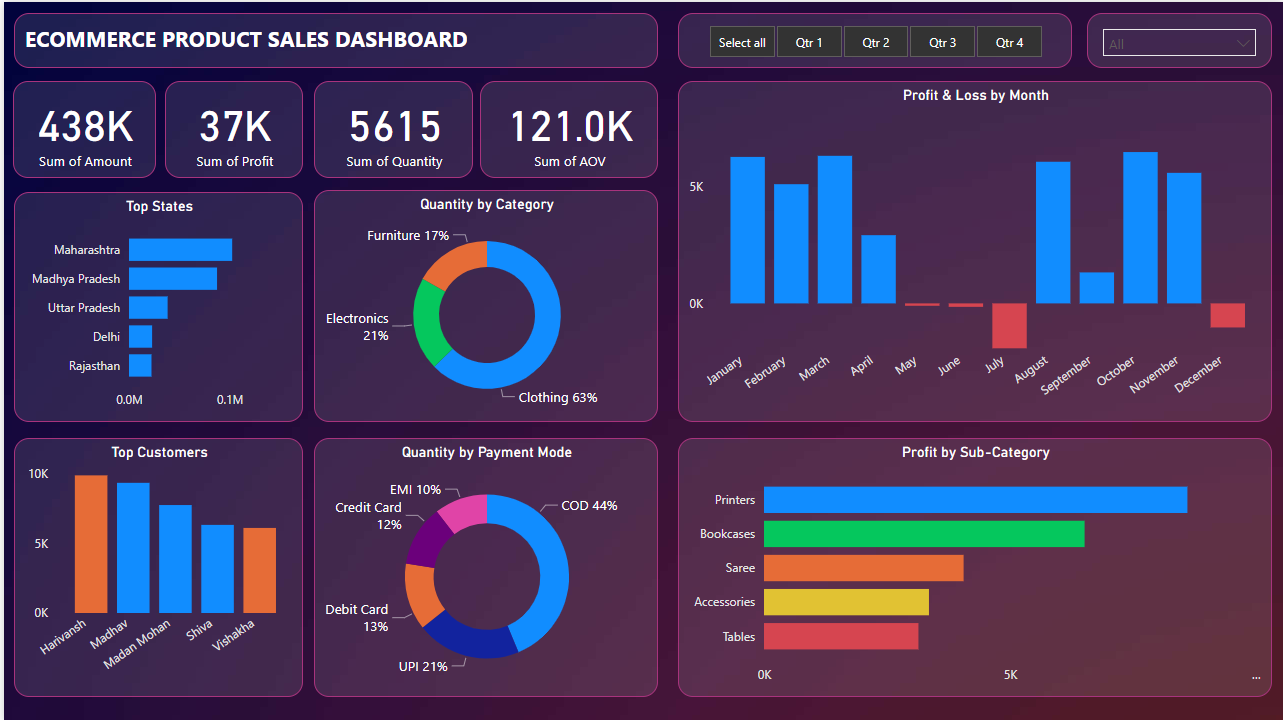

Layout of this report page (visuals, bound fields, positions):
{"tool":"powerbi","page":{"name":"Dashboard","canvas":[1280,720],"ordinal":0},"visuals":[{"type":"textbox","box":[10,11,644,55],"z":0},{"type":"columnChart","title":"Profit & Loss by Month","fields":{"Category":["Orders.Order Date.Variation.Date Hierarchy.Month"],"Y":["Sum(Details.Profit)"]},"box":[674,79,594,341],"z":1000},{"type":"barChart","title":" Profit by Sub-Category","fields":{"Category":["Details.Sub-Category"],"Y":["Sum(Details.Profit)"]},"box":[674,436,594,259],"z":2000},{"type":"donutChart","title":"Quantity by Category","fields":{"Category":["Details.Category"],"Y":["Sum(Details.Quantity)"]},"box":[310,188,344,232],"z":3000},{"type":"donutChart","title":"Quantity by Payment Mode","fields":{"Y":["Sum(Details.Quantity)"],"Category":["Details.PaymentMode"]},"box":[310,436,344,259],"z":4000},{"type":"card","fields":{"Values":["Sum(Details.Amount)"]},"box":[9,79,143,97],"z":5000},{"type":"card","fields":{"Values":["Sum(Details.Profit)"]},"box":[161,79,138,97],"z":6000},{"type":"card","fields":{"Values":["Sum(Details.Quantity)"]},"box":[310,79,159,97],"z":7000},{"type":"card","fields":{"Values":["Sum(Details.AOV)"]},"box":[476,79,178,97],"z":8000},{"type":"barChart","title":"Top States","fields":{"Category":["Orders.State"],"Y":["Sum(Details.Amount)"]},"box":[10,190,289,230],"z":9000},{"type":"columnChart","title":"Top Customers","fields":{"Category":["Orders.CustomerName"],"Y":["Sum(Details.Amount)"]},"box":[10,436,289,259],"z":10000},{"type":"slicer","fields":{"Values":["Orders.Order Date.Variation.Date Hierarchy.Quarter"]},"box":[674,11,394,55],"z":10001},{"type":"slicer","fields":{"Values":["Orders.State"]},"box":[1083,11,185,55],"z":10002}]}

Visuals, with their boxes in screenshot pixels (x1, y1, x2, y2), scaled from the page's 1280x720 canvas onto the 1283x720 screenshot:
textbox: locate(10, 11, 656, 66)
"Profit & Loss by Month" columnChart: locate(676, 79, 1271, 420)
" Profit by Sub-Category" barChart: locate(676, 436, 1271, 695)
"Quantity by Category" donutChart: locate(311, 188, 656, 420)
"Quantity by Payment Mode" donutChart: locate(311, 436, 656, 695)
card - Sum(Details.Amount): locate(9, 79, 152, 176)
card - Sum(Details.Profit): locate(161, 79, 300, 176)
card - Sum(Details.Quantity): locate(311, 79, 470, 176)
card - Sum(Details.AOV): locate(477, 79, 656, 176)
"Top States" barChart: locate(10, 190, 300, 420)
"Top Customers" columnChart: locate(10, 436, 300, 695)
slicer - Orders.Order Date.Variation.Date Hierarchy.Quarter: locate(676, 11, 1071, 66)
slicer - Orders.State: locate(1086, 11, 1271, 66)
